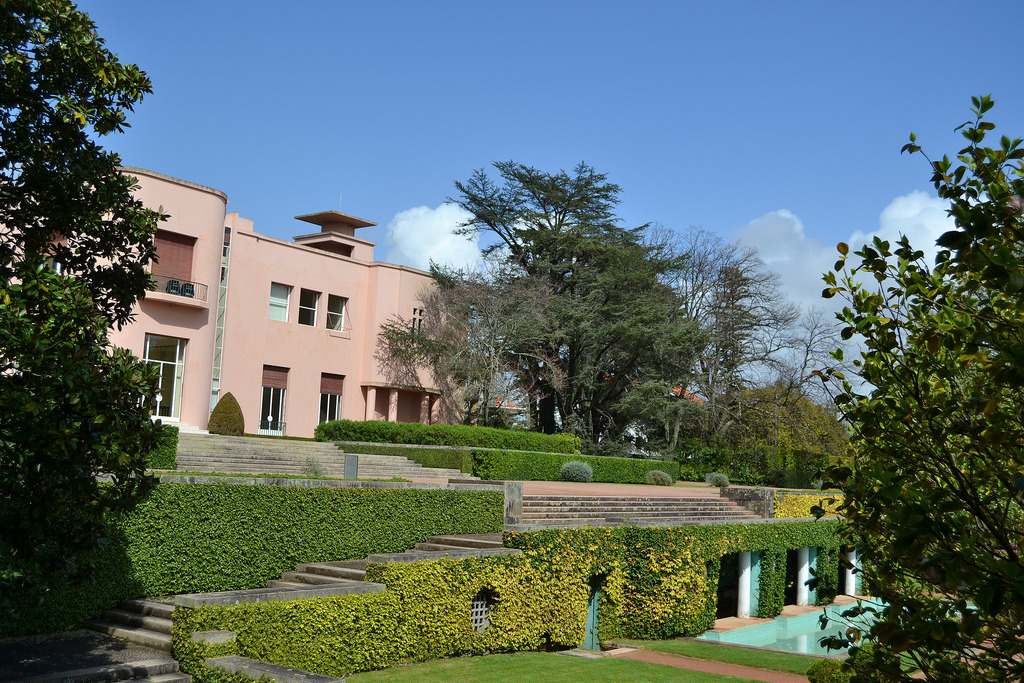serralves: (0, 158, 487, 443)
